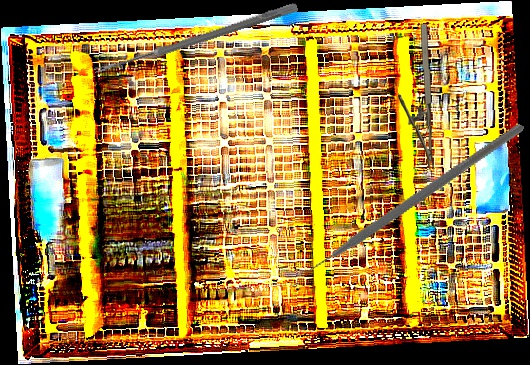Chopper: (285, 60, 525, 332)
Needle Holder: (396, 23, 435, 172)
Surgical Spoon: (93, 1, 299, 77)
